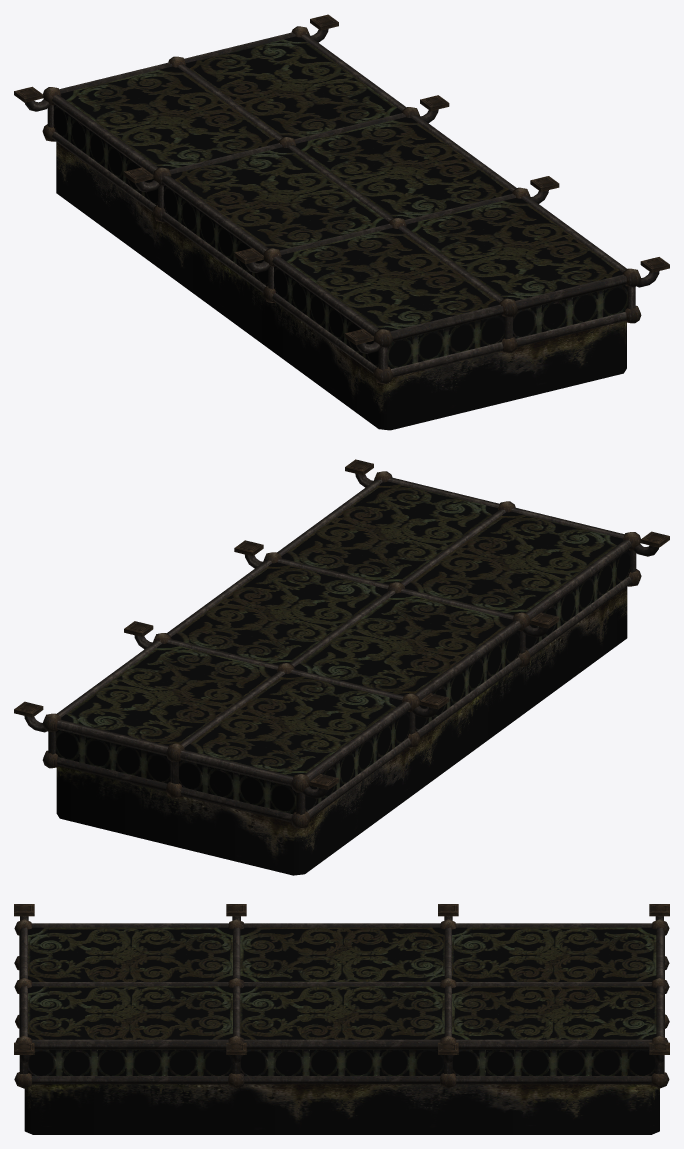
The model's file is catwalk_factory_4m_dirty.DAE.
The picture shows the model from 3 angles, top to bottom: view 1: azimuth 30°, elevation 25°; view 2: azimuth 150°, elevation 25°; view 3: azimuth 270°, elevation 25°; orthographic projection. The views are drawn at different scales.
Parts seen in each view (by area): view 1: Plane012, Box002, Object111; view 2: Plane012, Box002, Object111; view 3: Plane012, Box002, Object111.
Part boxes in pixels (box(x1,y1,x2,y2)): Plane012: box(53, 36, 627, 368); Box002: box(56, 142, 626, 430); Object111: box(14, 14, 669, 383); Plane012: box(55, 481, 630, 814); Box002: box(56, 587, 627, 875); Object111: box(14, 459, 669, 828); Plane012: box(28, 927, 656, 1075); Box002: box(24, 1084, 659, 1134); Object111: box(14, 904, 669, 1088).
Size of the model in its own units: 2.13 by 0.6666 by 4.
